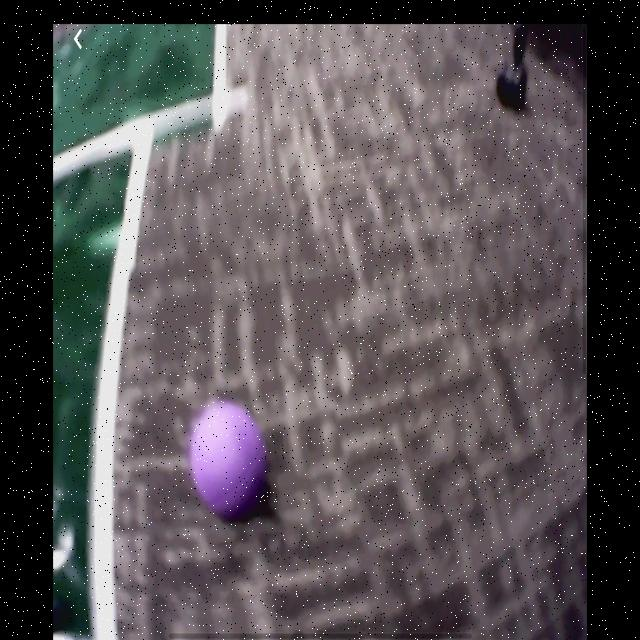ball: (188, 399, 269, 523)
